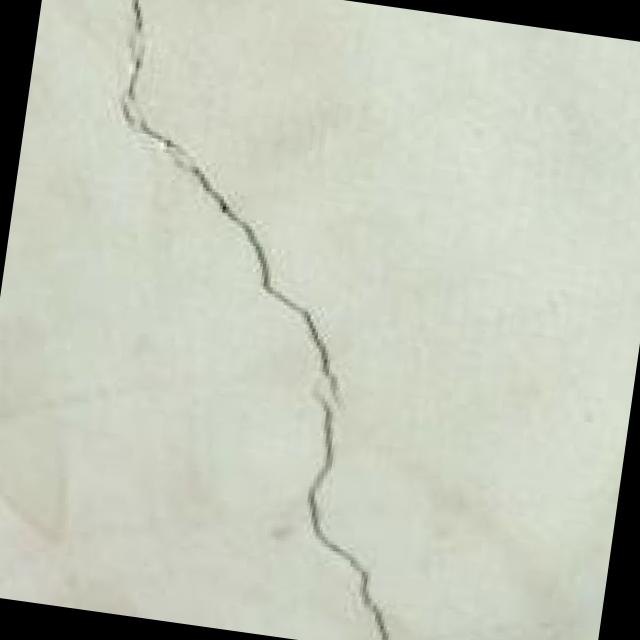crack: (16, 0, 514, 640)
